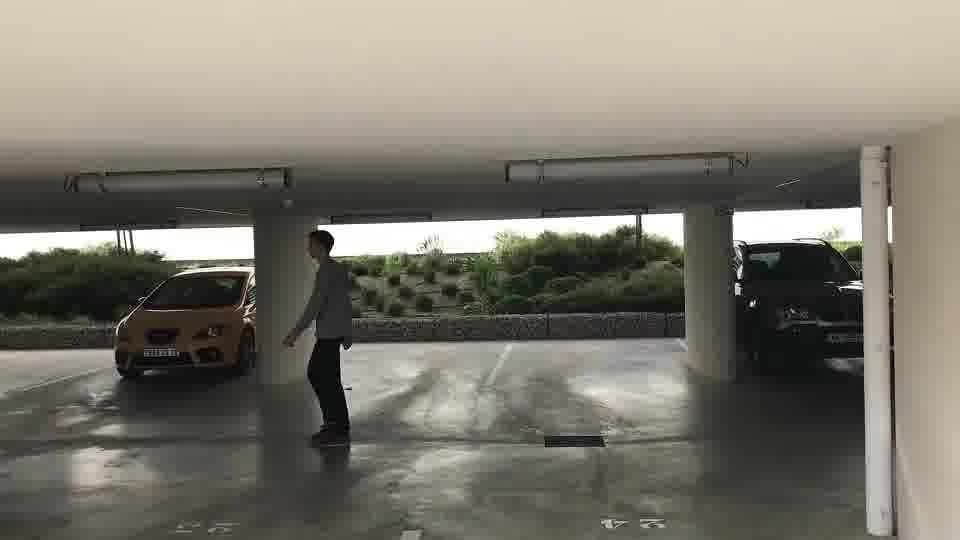jugador: (264, 226, 365, 454)
